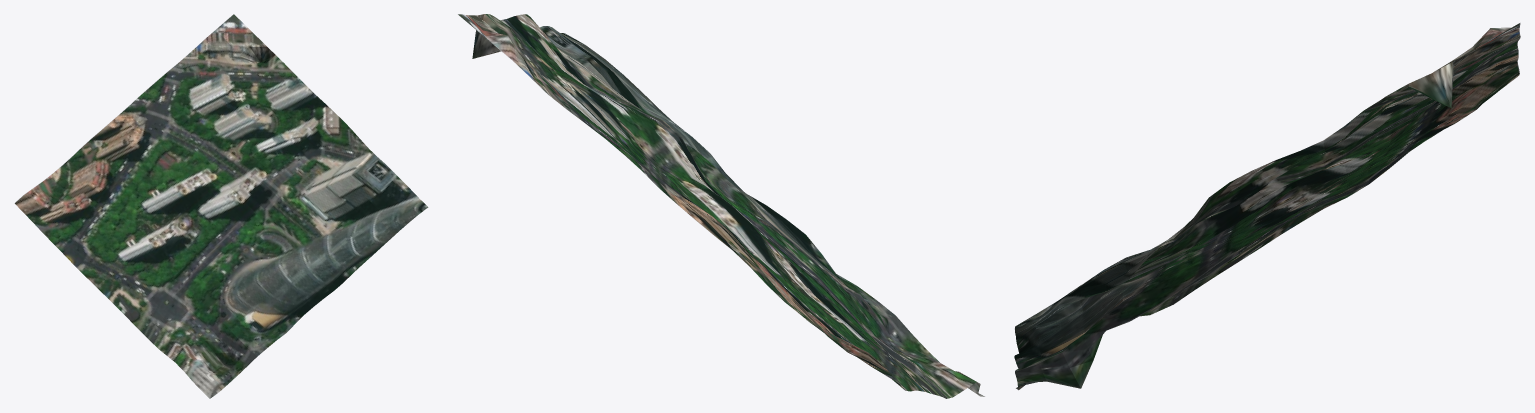
3 renders of one model, left to right at view 1: azimuth 30°, elevation 25°; view 2: azimuth 150°, elevation 25°; view 3: azimuth 270°, elevation 25°, orthographic. The views are drawn at different scales.
Bounding box in the file's own units: 596 × 500 × 449.
Materials: 1 (1 with a texture image).
